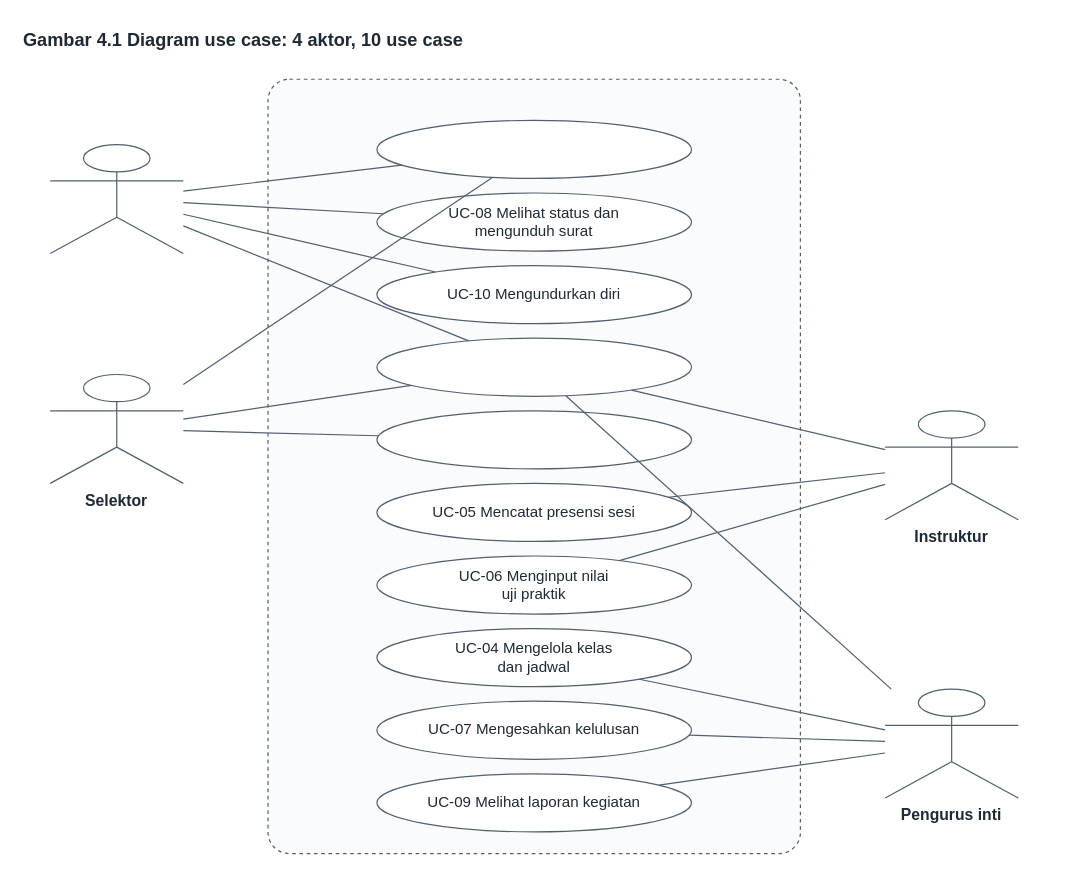
The diagram is 1067 pixels wide and 875 high, and some of its shapes have lost their labels. The shapes that lost their labels are listed below. From the top down, each one's box as (x1, y1, x2, y2) in pixels, then its label:
(376, 119, 692, 178): UC-02 Mendaftar pelatihan
(49, 143, 183, 253): Pemuda
(376, 337, 692, 396): UC-01 Melakukan autentikasi
(376, 410, 692, 469): UC-03 Memverifikasi pendaftar
(267, 78, 800, 854): Sistem DayaMuda
